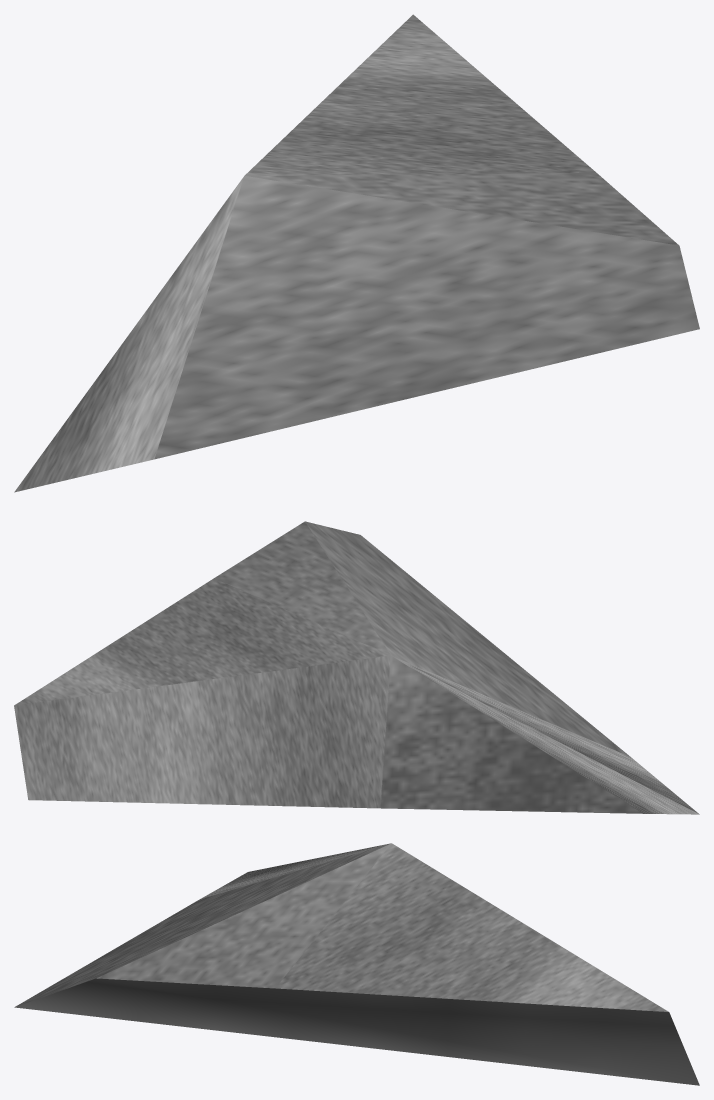
The model's file is body_cell_070.fbx.
The picture shows the model from 3 angles, top to bottom: view 1: azimuth 30°, elevation 25°; view 2: azimuth 150°, elevation 25°; view 3: azimuth 270°, elevation 25°; orthographic projection. The views are drawn at different scales.
Parts seen in each view (by area): view 1: body_cell.070; view 2: body_cell.070; view 3: body_cell.070.
Boxes of the visible parts, x1=… form: body_cell.070: x1=14, y1=14, x2=699, y2=492; body_cell.070: x1=14, y1=521, x2=699, y2=814; body_cell.070: x1=14, y1=843, x2=699, y2=1085.
Size of the model in its own units: 9.9 by 2.74 by 10.27.
